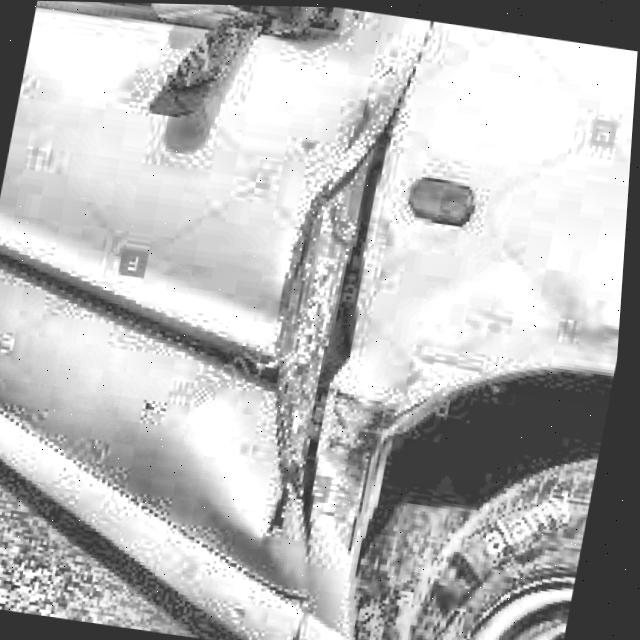door_dent: (237, 126, 442, 550)
